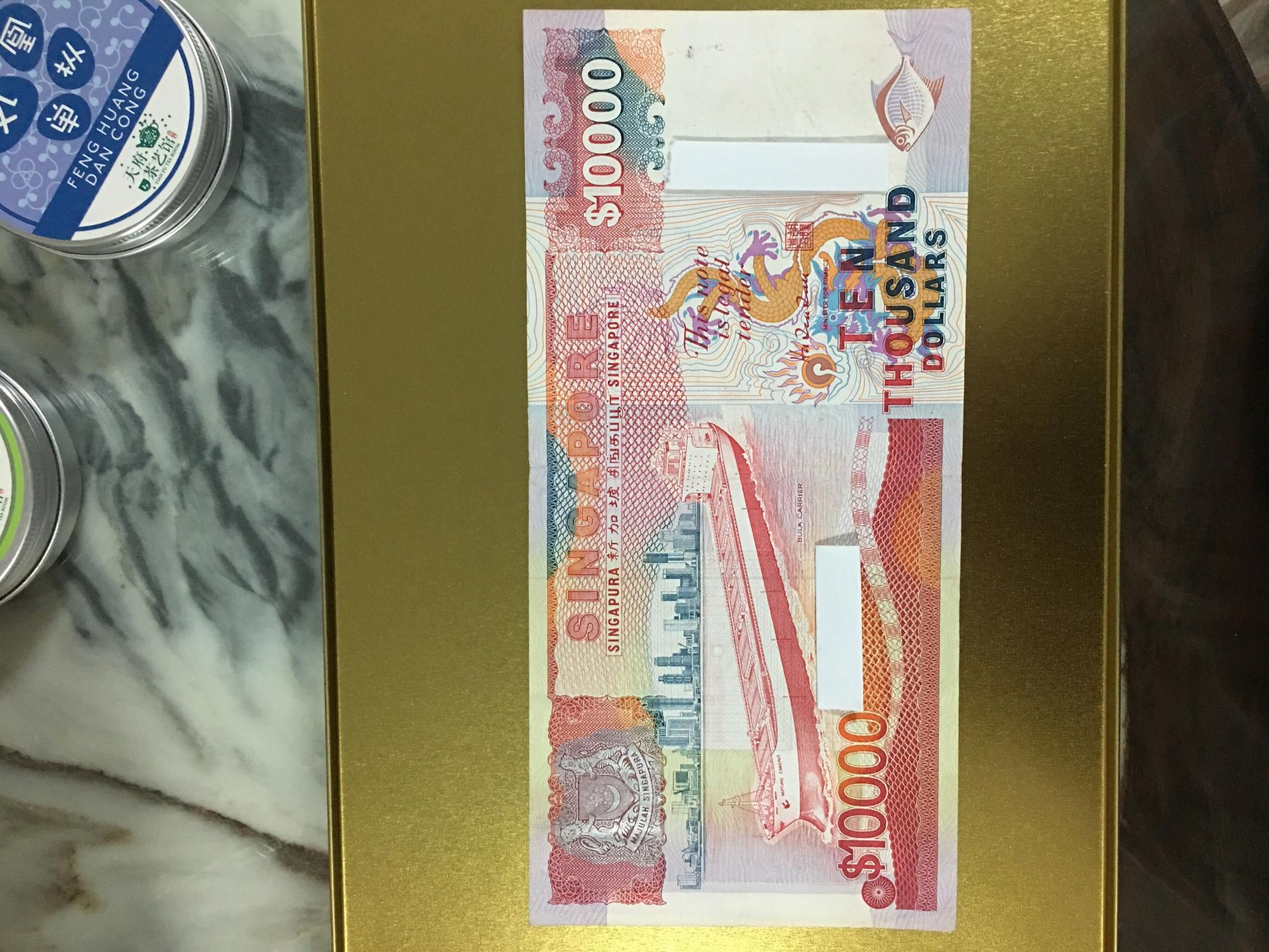10000SingaporeDollar: (532, 16, 956, 935)
